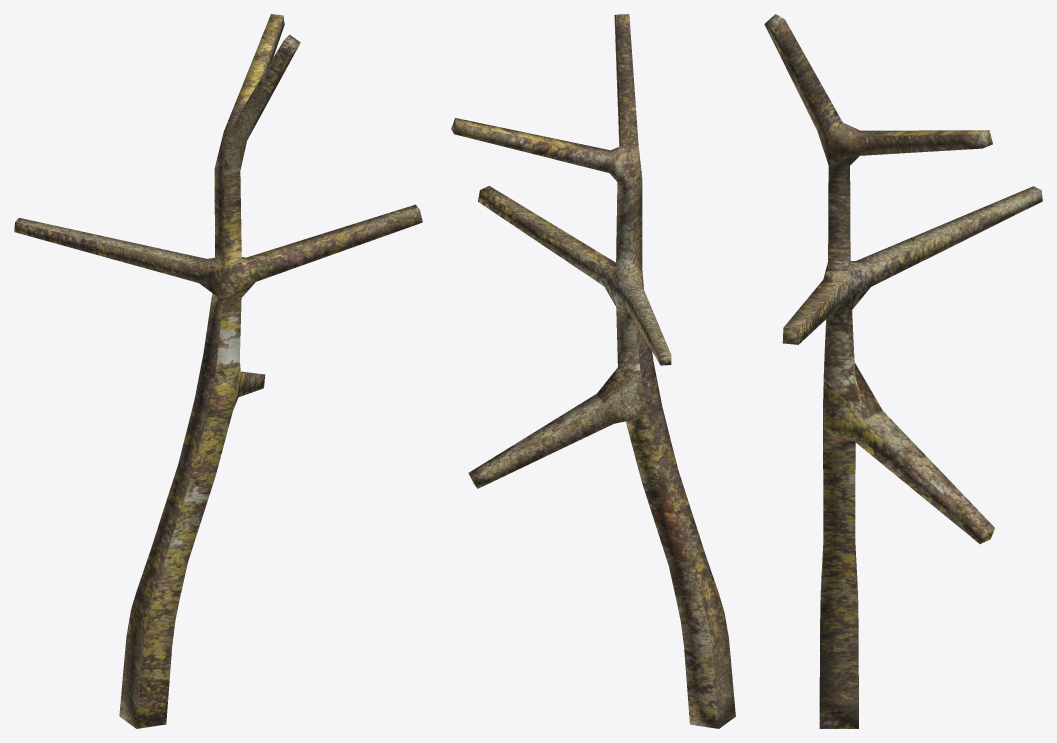
File: DrySwampTree1.fbx
The picture shows the model from 3 angles, left to right: view 1: azimuth 30°, elevation 25°; view 2: azimuth 150°, elevation 25°; view 3: azimuth 270°, elevation 25°; orthographic projection. The views are drawn at different scales.
Parts seen in each view (by area): view 1: DrySwampTree1; view 2: DrySwampTree1; view 3: DrySwampTree1.
Boxes of the visible parts, x1,y1,x2,y2 form: DrySwampTree1: (14, 14, 422, 728); DrySwampTree1: (451, 14, 735, 728); DrySwampTree1: (764, 14, 1042, 728).
Size of the model in its own units: 2.71 by 5.81 by 1.91.
